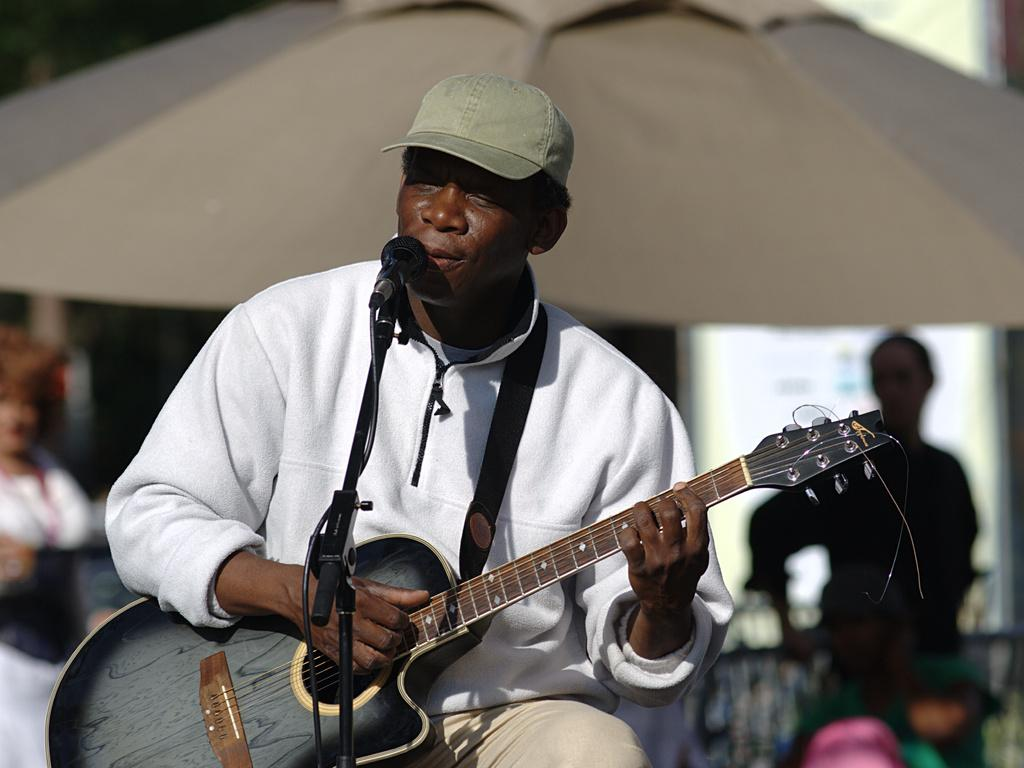Hat: (382, 69, 570, 193)
